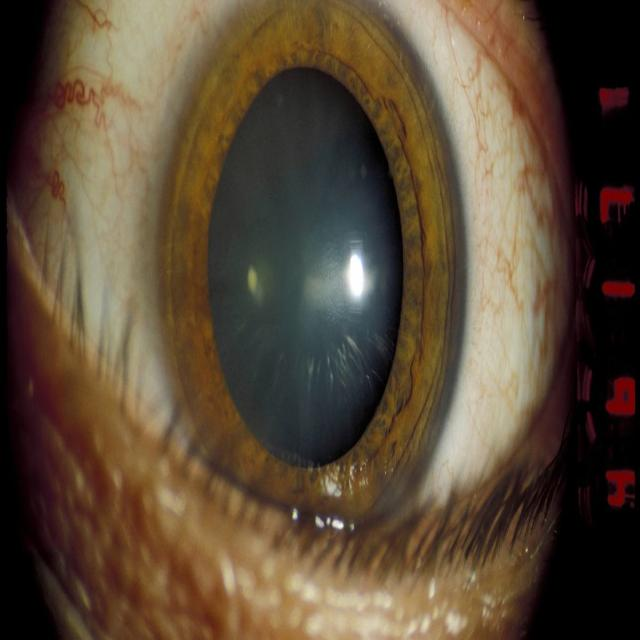Cataract: (159, 0, 467, 551)
